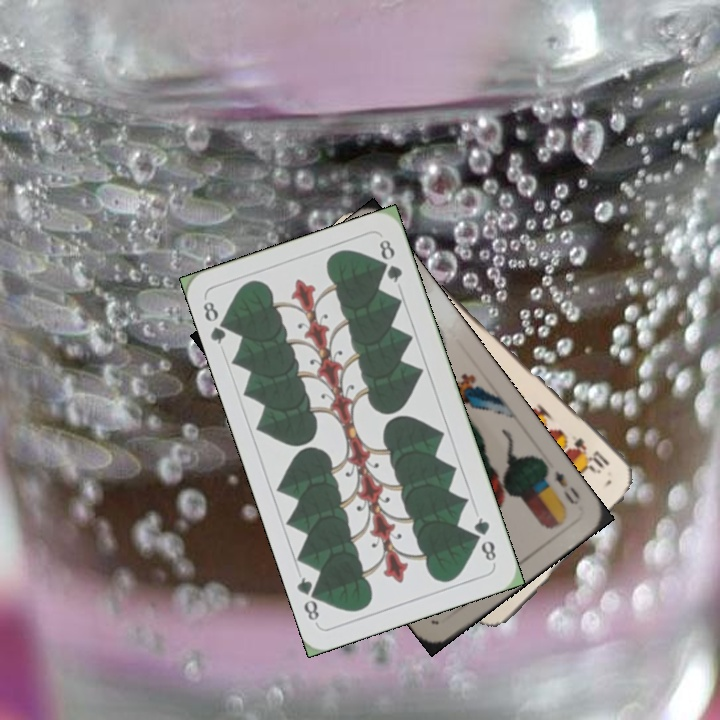E10: (569, 433, 613, 476)
EO: (539, 462, 584, 508)
G8: (198, 297, 234, 347), (470, 513, 499, 564)
